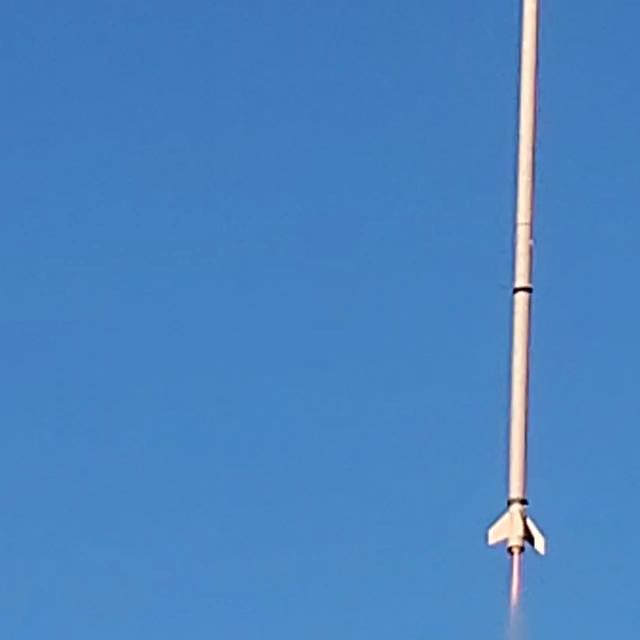rocket: (485, 0, 545, 604)
